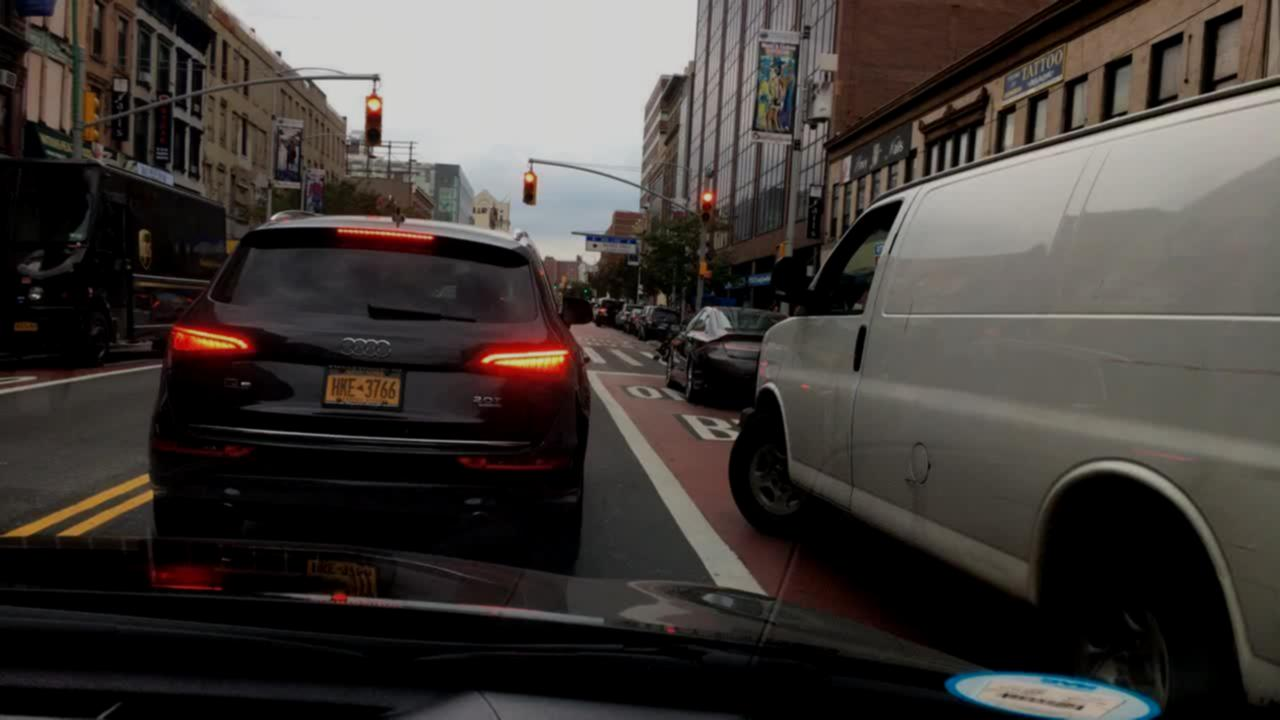Audi: (329, 333, 404, 373)
